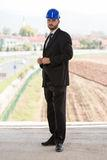helmet: (44, 6, 64, 23)
